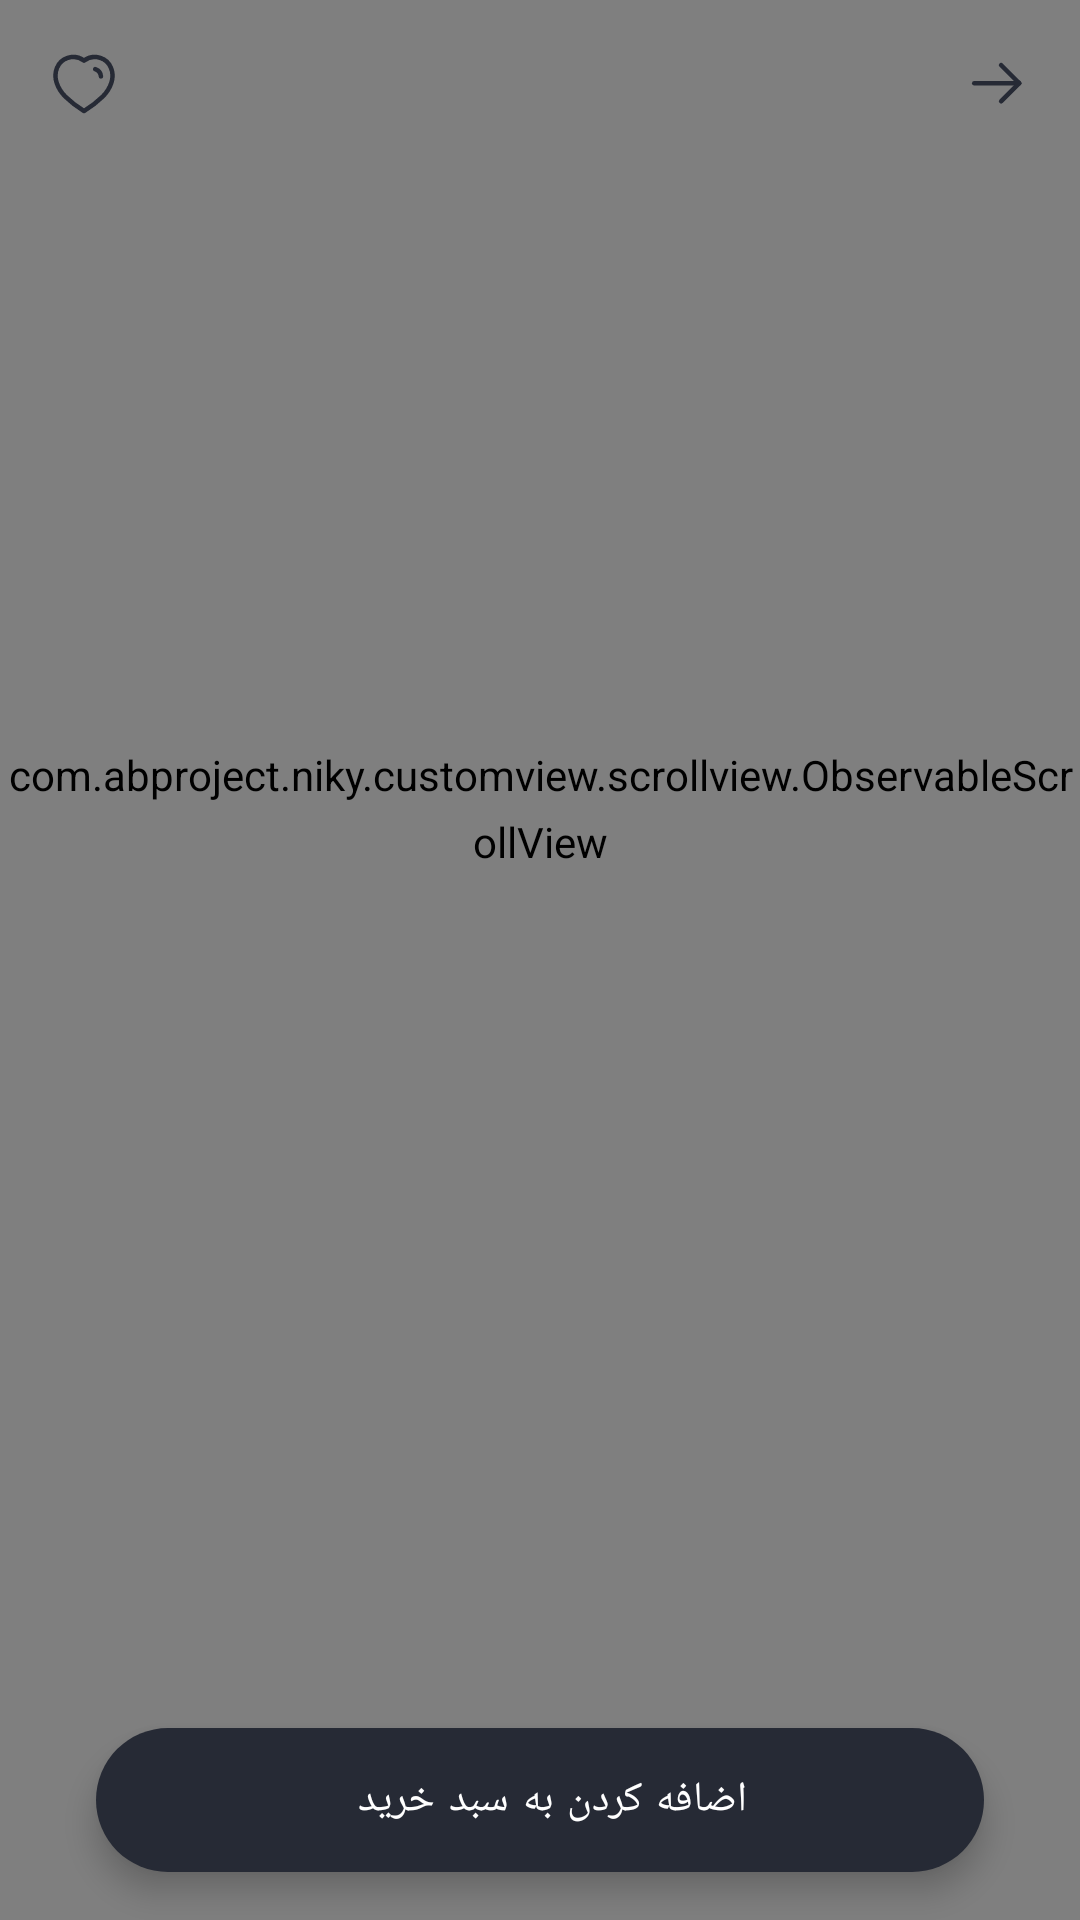

Where to tap for icons on this 1080 x 1920 app screen, as point (x, y):
favorites: point (84, 84)
